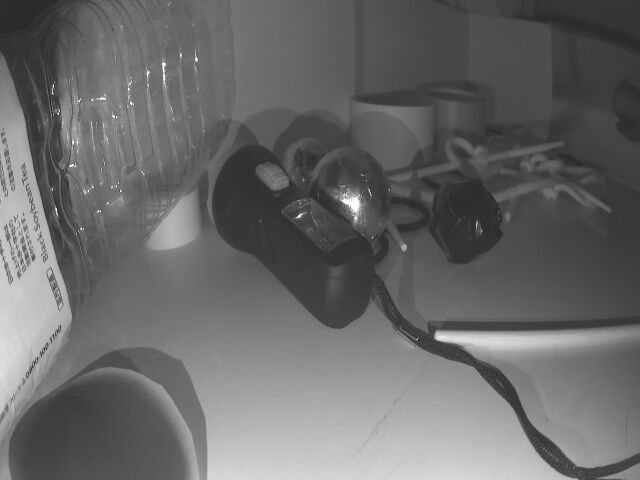Dead: (434, 177, 505, 264)
Live: (310, 147, 395, 248), (281, 130, 329, 193)
